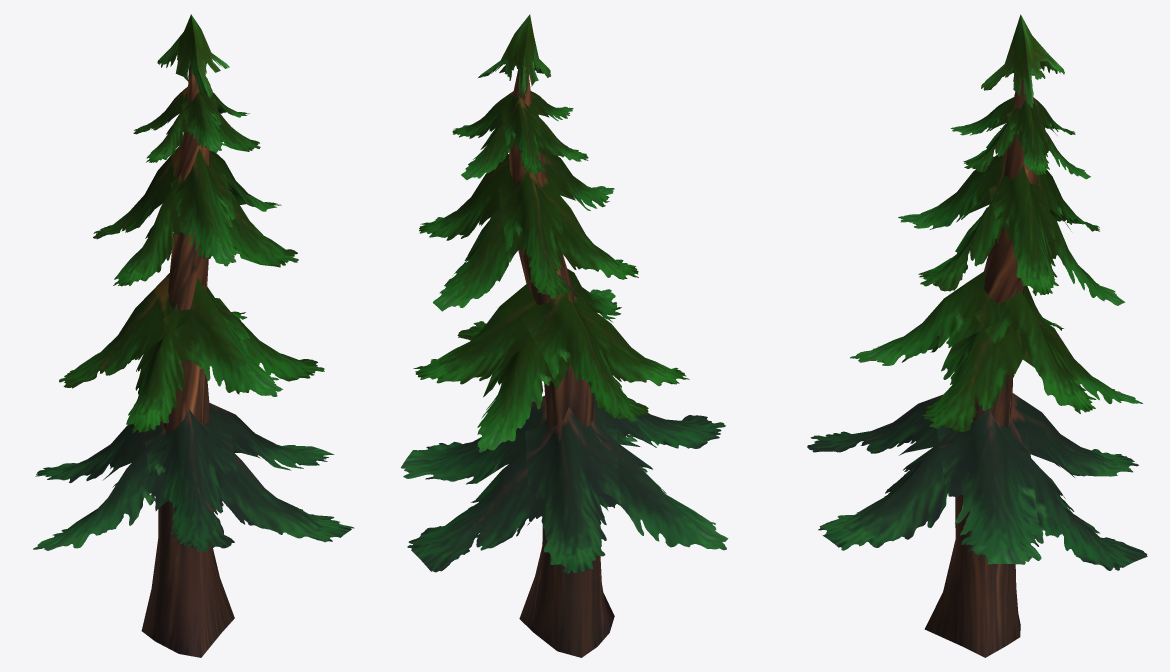
Rendered from spruce_2.FBX.
3 renders of one model, left to right at view 1: azimuth 30°, elevation 25°; view 2: azimuth 150°, elevation 25°; view 3: azimuth 270°, elevation 25°, orthographic. The views are drawn at different scales.
Parts seen in each view (by area): view 1: spruce_2; view 2: spruce_2; view 3: spruce_2.
Part boxes in pixels (x1,y1,x2,y2): spruce_2: [33, 14, 354, 657]; spruce_2: [401, 14, 728, 657]; spruce_2: [807, 14, 1147, 657].
Size of the model in its own units: 108 by 203 by 106.
